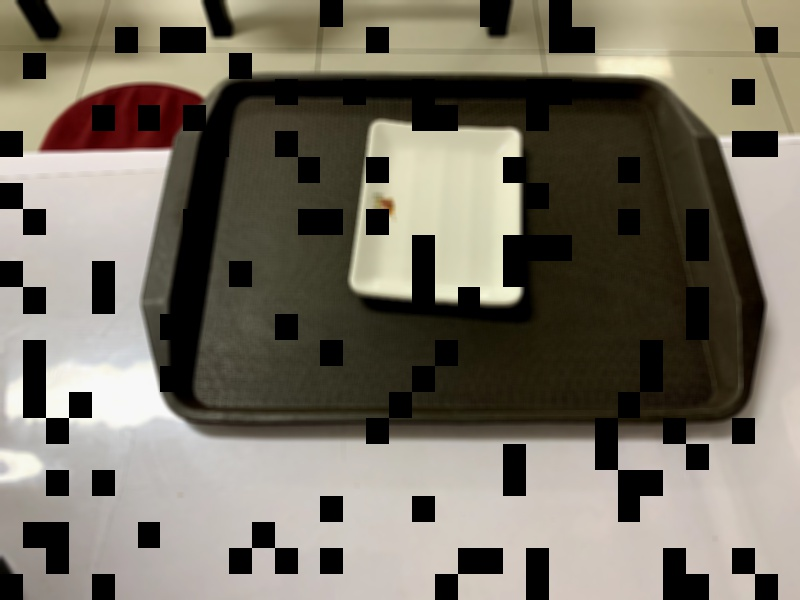dish4: (341, 114, 530, 313)
